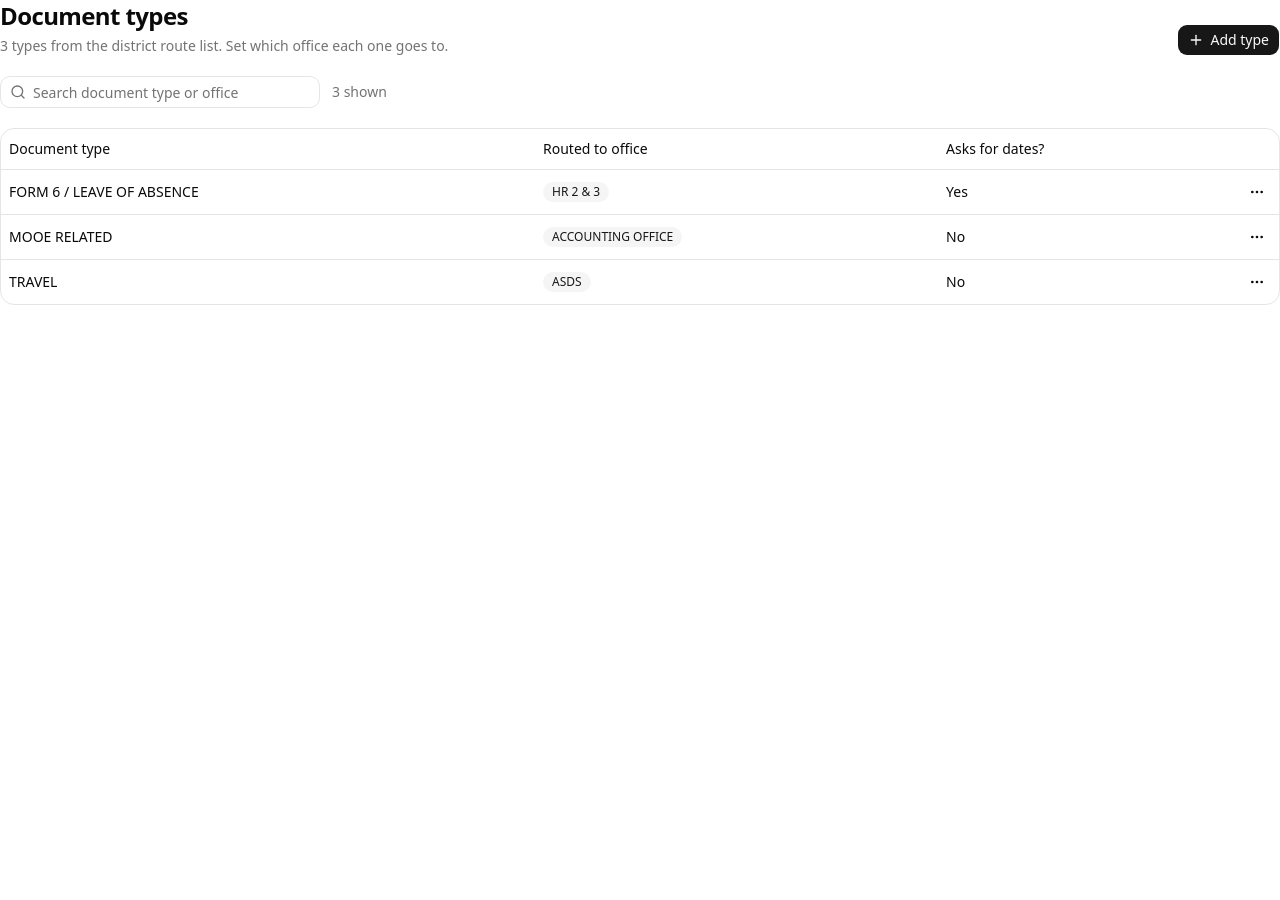
DocumentTypesPage › shows the "still used" message when delete is rejected with 23503
Press the mouse on the button named "Actions for TRAVEL" at (1257, 282), box [1243,268,1271,296]
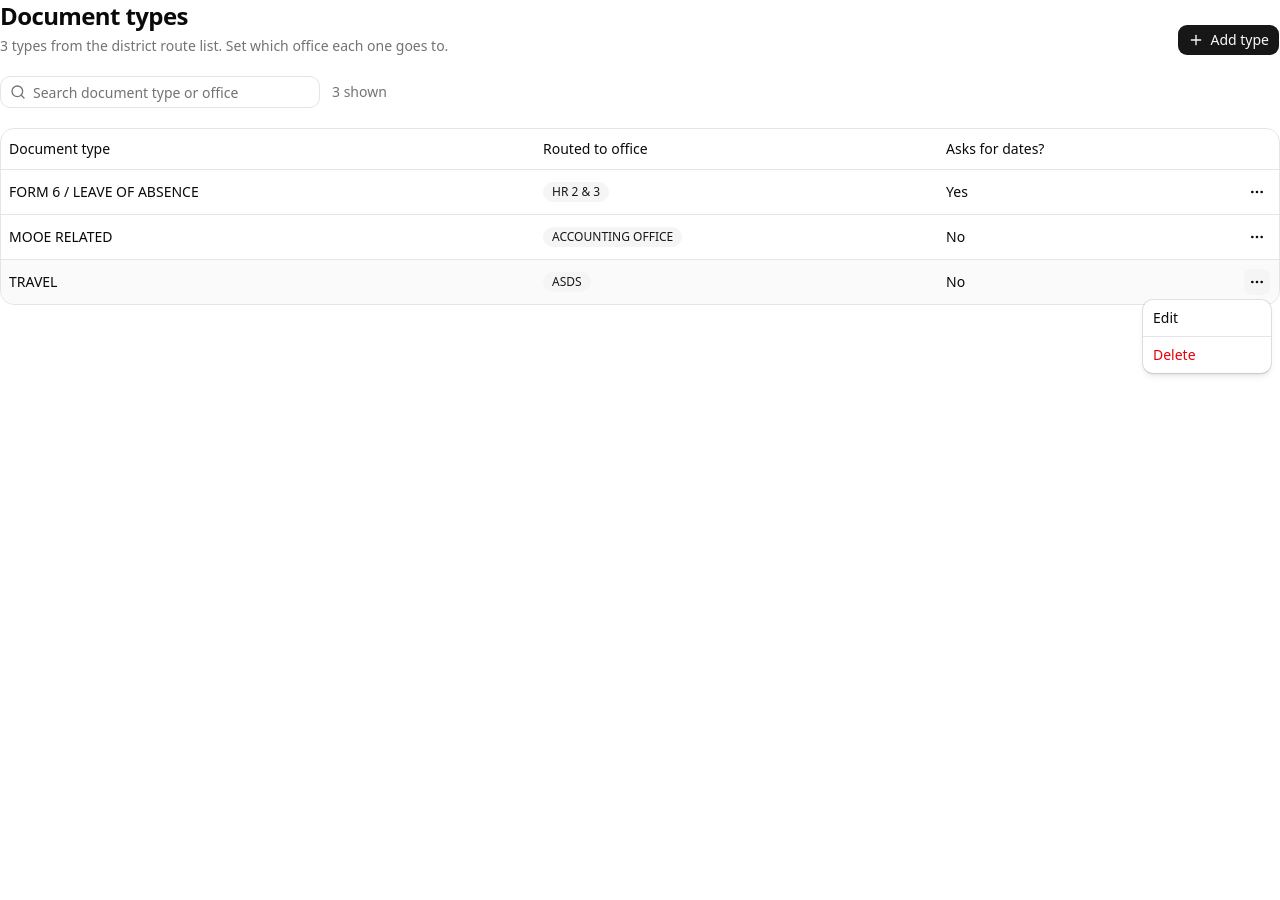
Click the menu item "Delete" at (1174, 354), box [1153,345,1196,364]
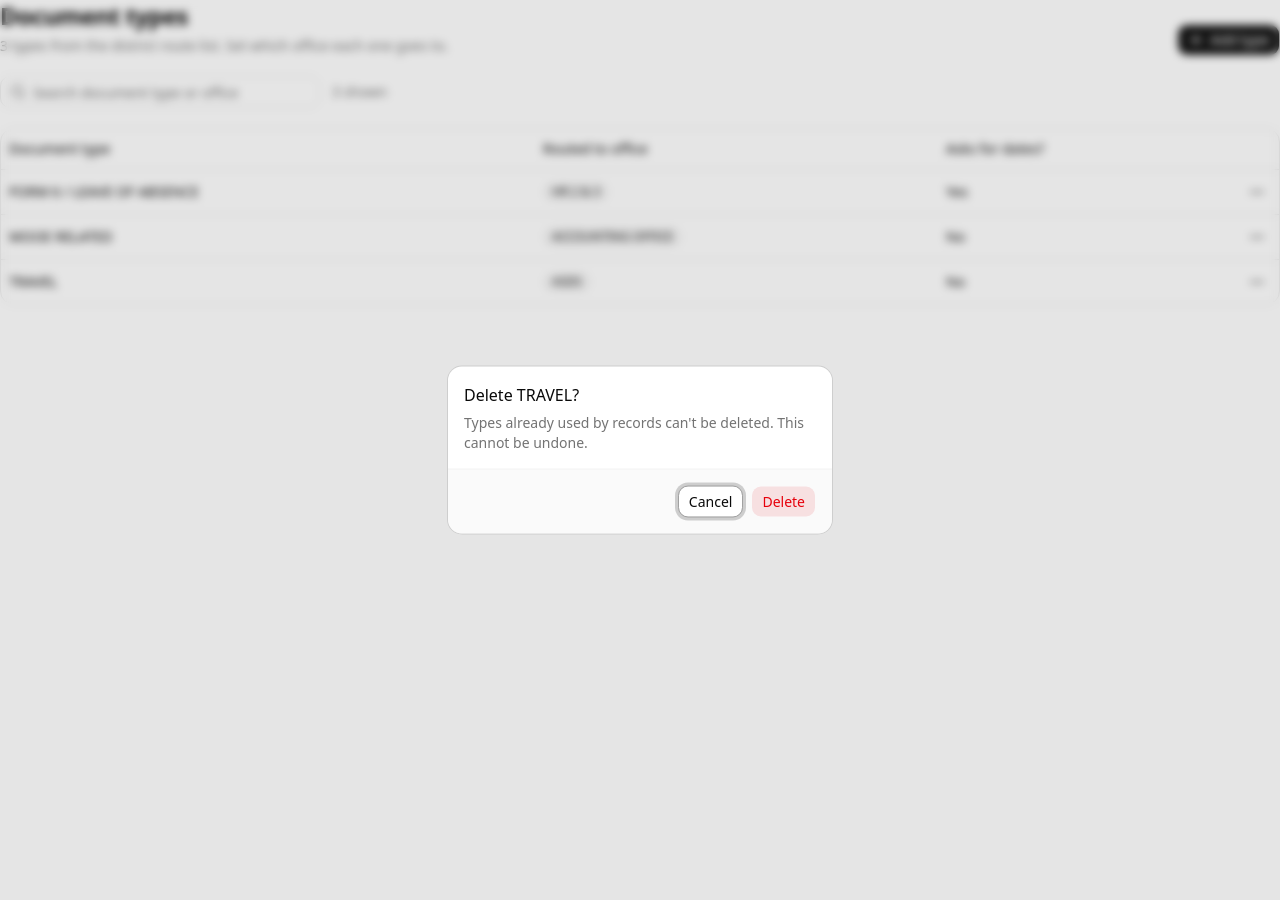
Click the button "Delete" at (784, 502), box [751,486,816,518]
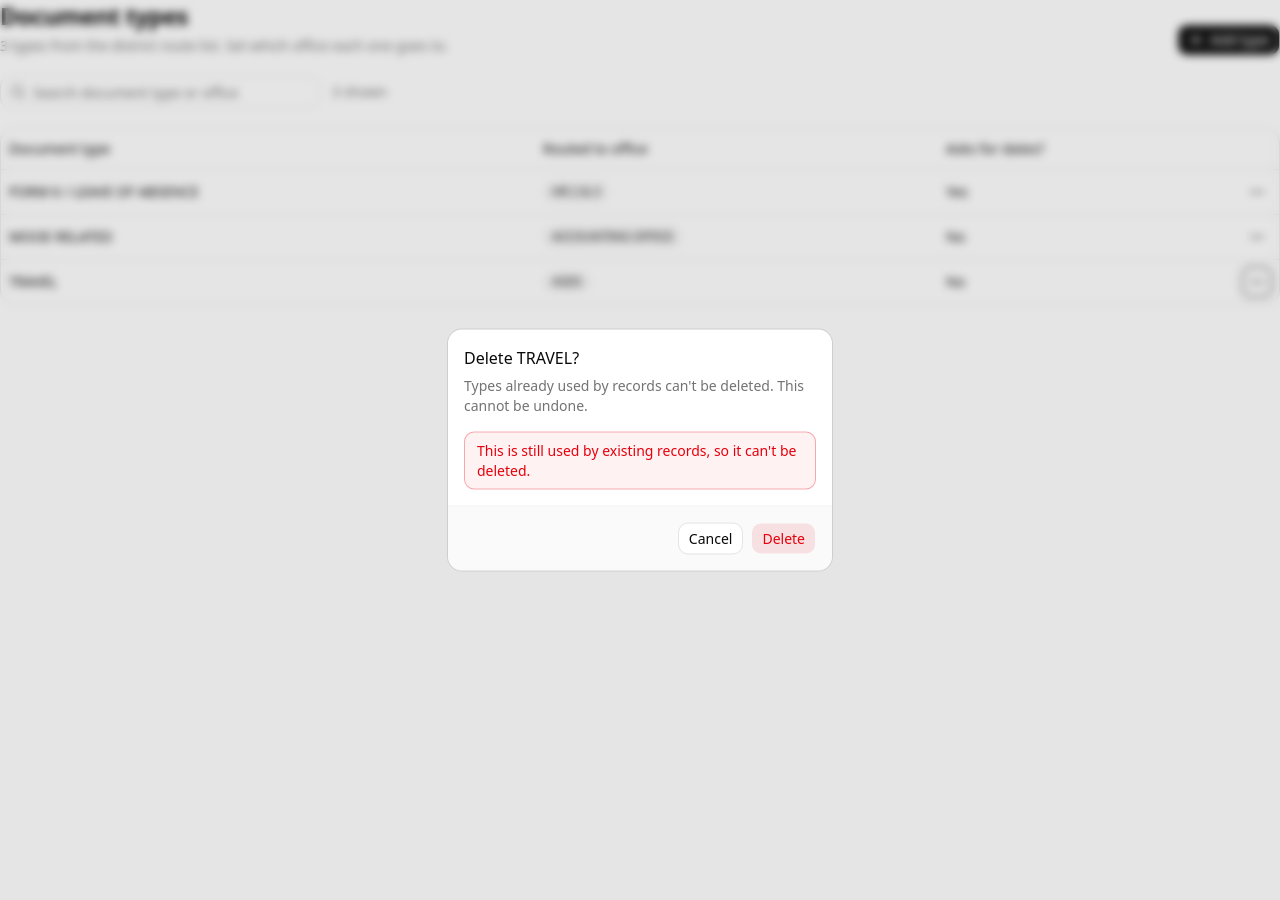
Check: the text "This is still used by existing records, so it can't be deleted." is shown, box [464,432,816,490]
